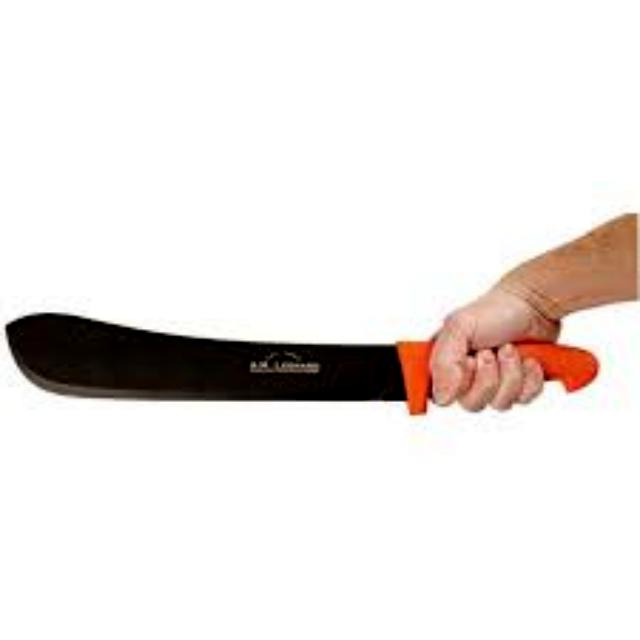long knife: (8, 283, 602, 485)
